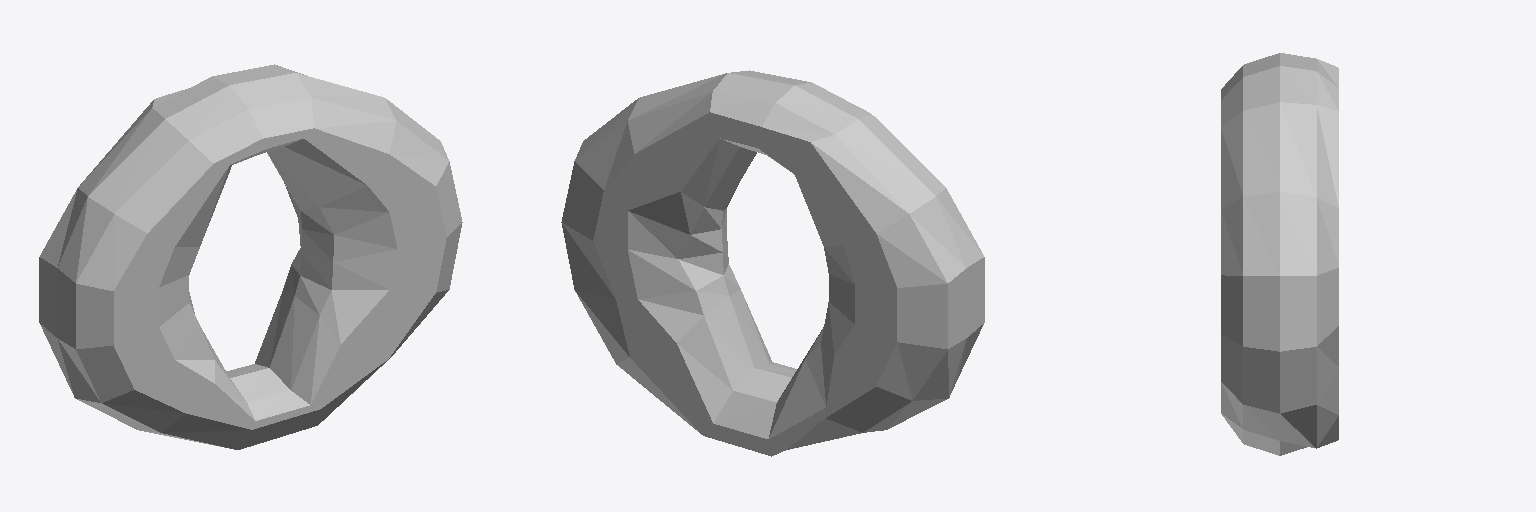
Rendered from note.obj.
3 views of the same model, side by side, from view 1: azimuth 30°, elevation 25°; view 2: azimuth 150°, elevation 25°; view 3: azimuth 270°, elevation 25° (orthographic).
Visible parts, largest first — view 1: pTorus1; view 2: pTorus1; view 3: pTorus1.
Boxes of the visible parts, box(x1,y1,x2,y2) form: pTorus1: box(39, 64, 462, 449); pTorus1: box(561, 70, 984, 456); pTorus1: box(1221, 53, 1338, 455).
Bounding box in the file's own units: 3.69 × 3.14 × 0.9511.